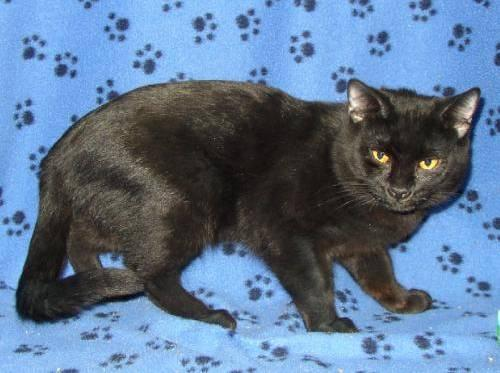cat: (16, 80, 480, 330)
